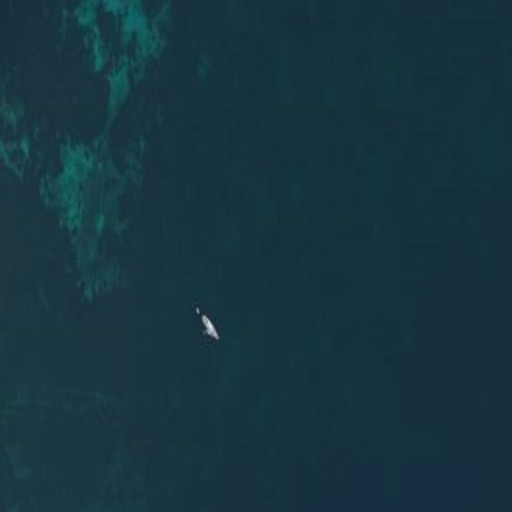ship: (199, 312, 220, 342)
